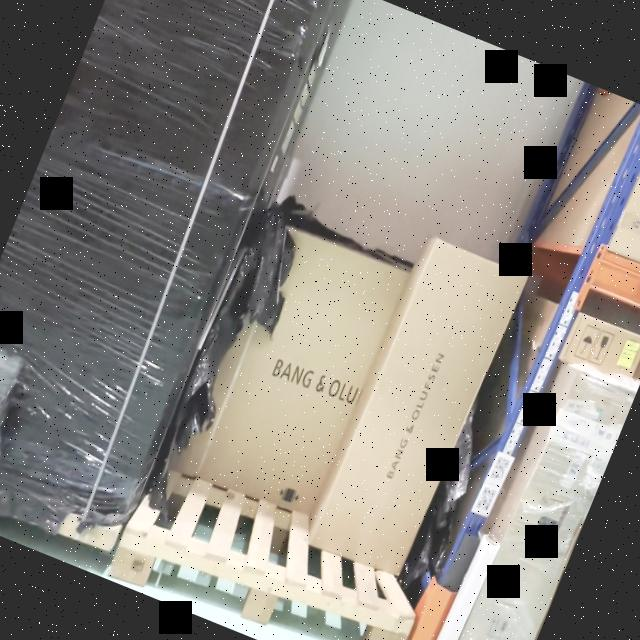box: (0, 0, 339, 524), (160, 214, 410, 524), (316, 240, 520, 574), (460, 370, 635, 640), (565, 314, 640, 380)
